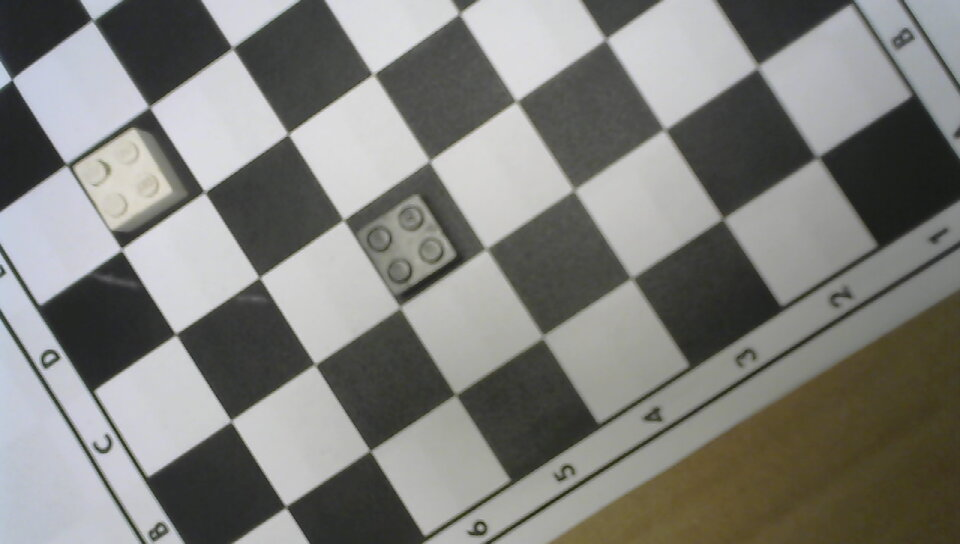bp: (353, 187, 459, 302)
